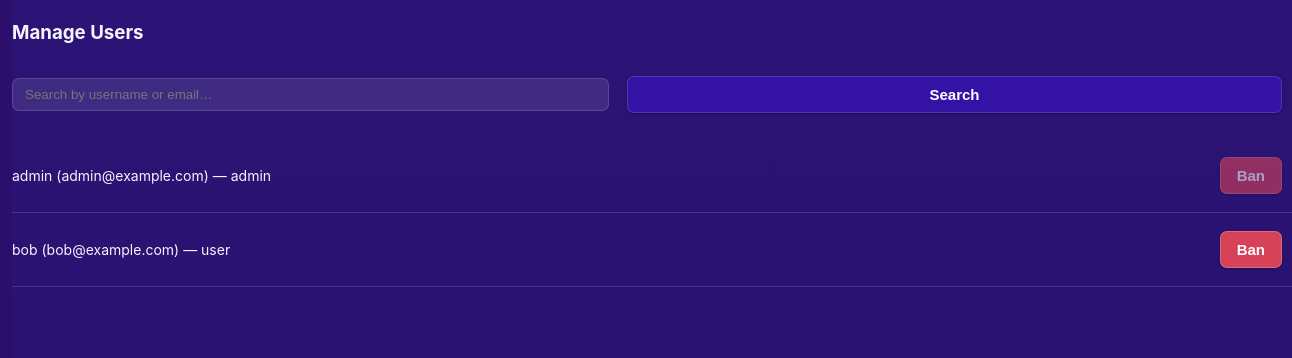
ManageUsersPage › lets an admin view and ban/unban a user, but never ban themselves
Expected: the text "bob (bob@example.com) — user" is shown, [12,240,230,258]
Expected: the button "Ban" in the row of "admin@example.com" is disabled, [1220,156,1282,194]
Click the button "Ban" in the row of "bob@example.com": [1251, 249] box [1220,230,1282,268]
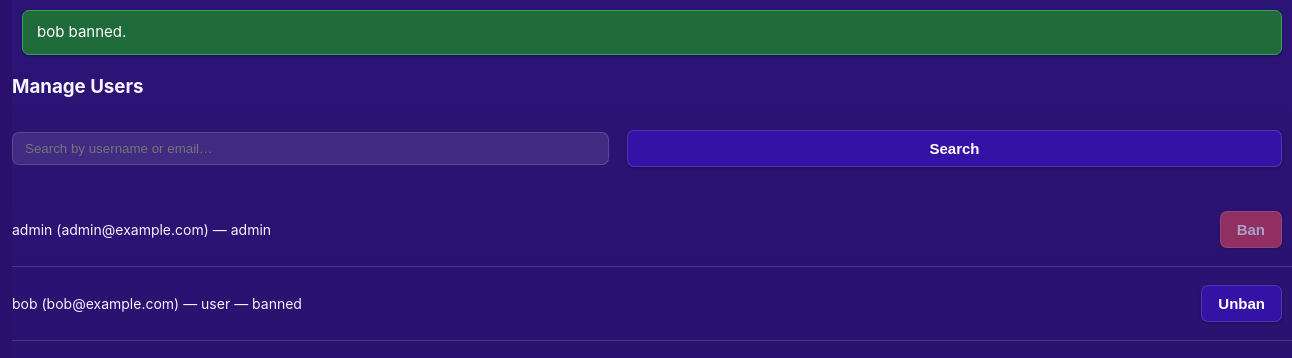
Expected: the button "Unban" is shown
Expected: the text "bob (bob@example.com) — user — banned" is shown, [12,295,302,312]
Note: Unban bob.
Click the button "Unban": [1242, 304] box [1201,285,1282,322]
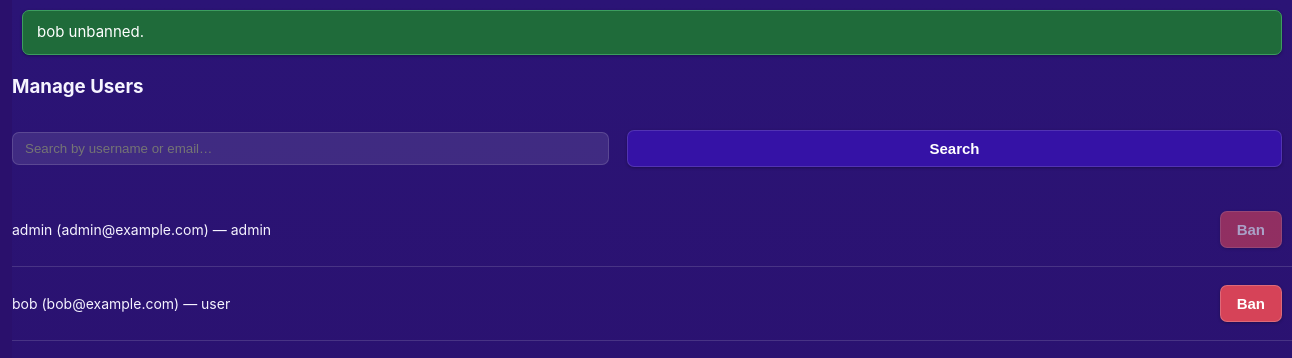
Expected: the button "Ban" in the row of "bob@example.com" is shown, [1220,285,1282,322]
Expected: the text "— banned" is gone
